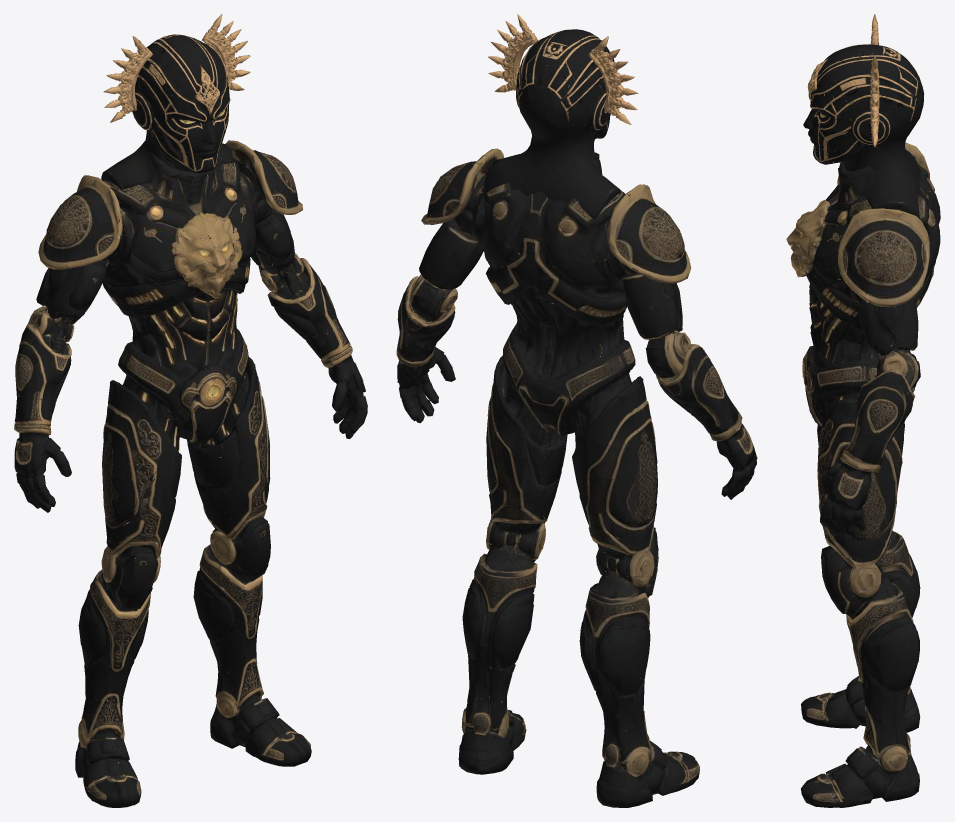
File: ravan-bot.glb
3 renders of one model, left to right at view 1: azimuth 30°, elevation 25°; view 2: azimuth 150°, elevation 25°; view 3: azimuth 270°, elevation 25°, orthographic. The views are drawn at different scales.
Parts seen in each view (by area): view 1: Body, Head; view 2: Body, Head; view 3: Body, Head.
Part boxes in pixels (<box>): Body: <box>14,127,367,807</box>; Head: <box>101,14,250,189</box>; Body: <box>396,146,757,807</box>; Head: <box>485,14,638,219</box>; Body: <box>786,142,940,807</box>; Head: <box>803,14,924,218</box>.
Bounding box in the file's own units: 1.09 × 2.24 × 0.4333.
Materials: 2 (2 with a texture image).
